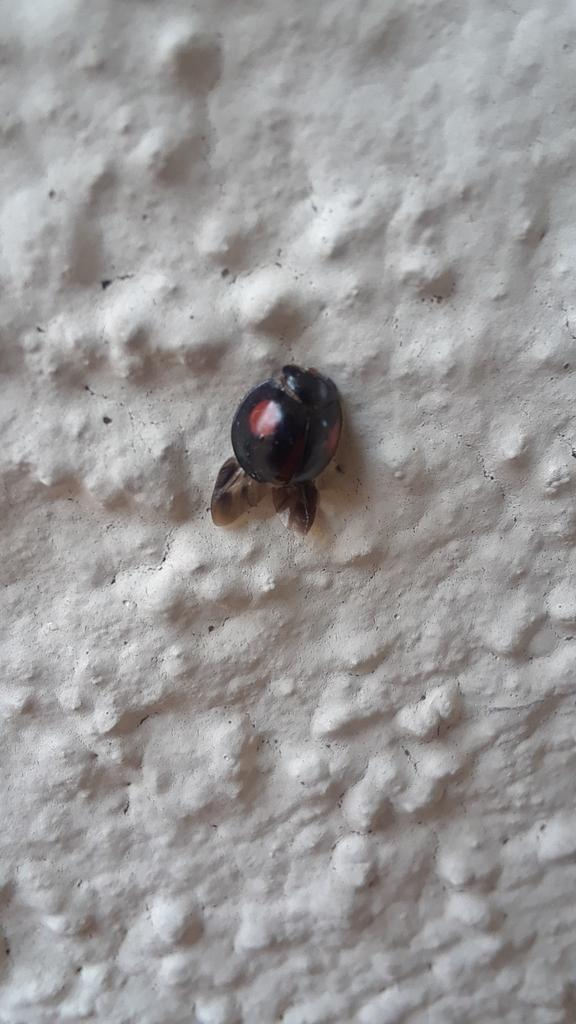ladybug: (209, 361, 351, 539)
